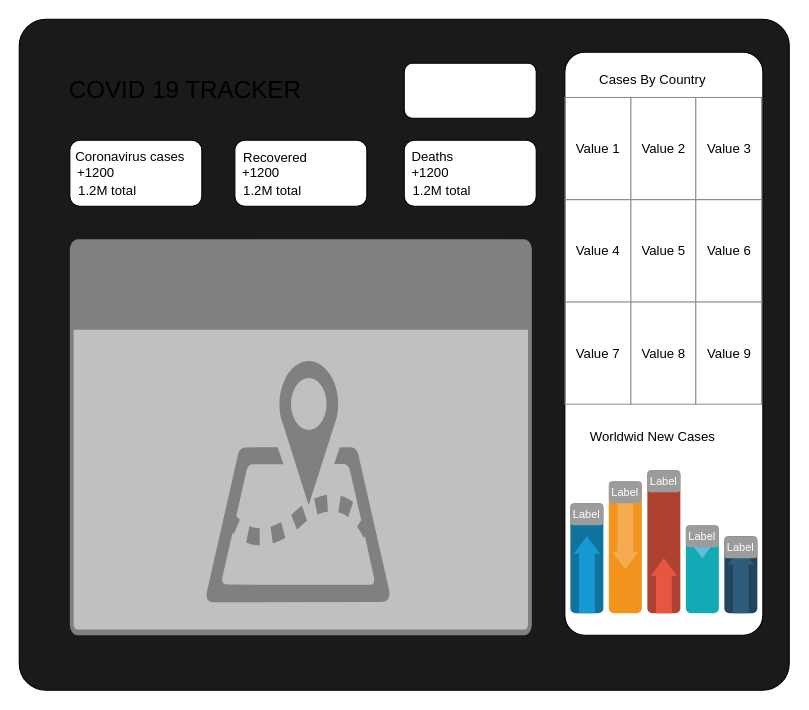
Image size: 809x710. Some labels were removed from this diagram. The shapes that lost their labels are listed below. From the top down, each one's centre as x and y in pixels, then its label:
At point (469, 90): "Worldwide".
At point (300, 437): "Map".
